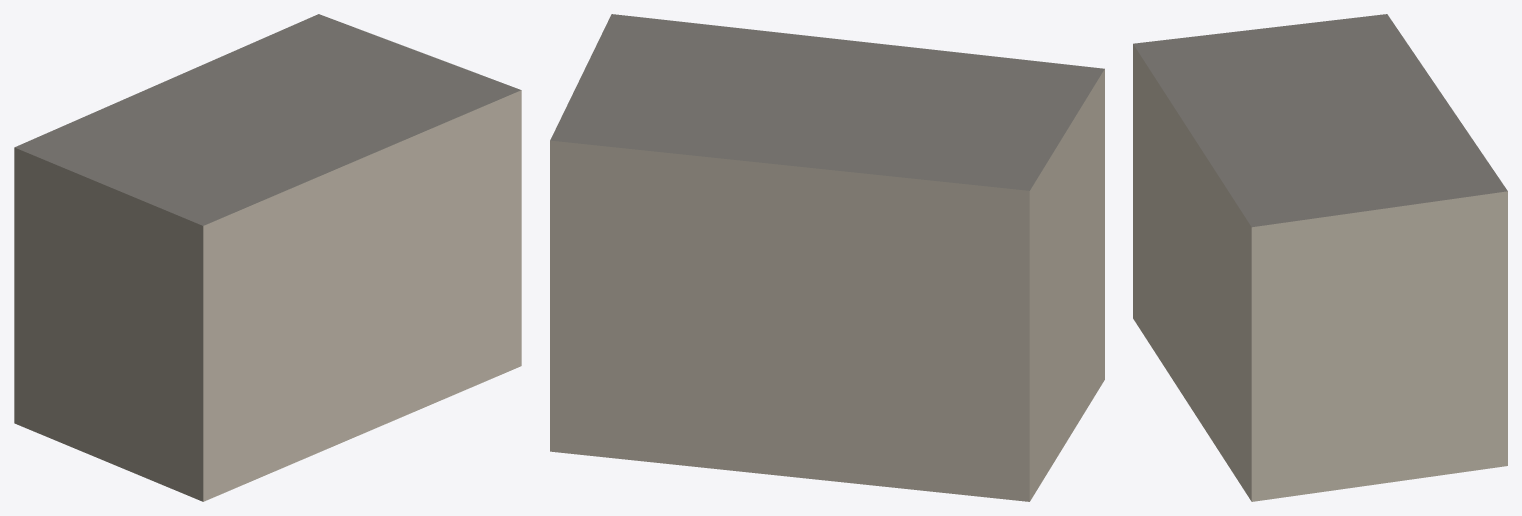
3 renders of one model, left to right at view 1: azimuth 30°, elevation 25°; view 2: azimuth 150°, elevation 25°; view 3: azimuth 270°, elevation 25°, orthographic. The views are drawn at different scales.
Visible parts, largest first — view 1: HP-w505643609; view 2: HP-w505643609; view 3: HP-w505643609.
Part boxes in pixels (left/top/right/bottom): HP-w505643609: left=14, top=14, right=521, bottom=501; HP-w505643609: left=550, top=14, right=1104, bottom=501; HP-w505643609: left=1133, top=14, right=1507, bottom=501.
Size of the model in its own units: 19.98 by 12 by 14.85.
